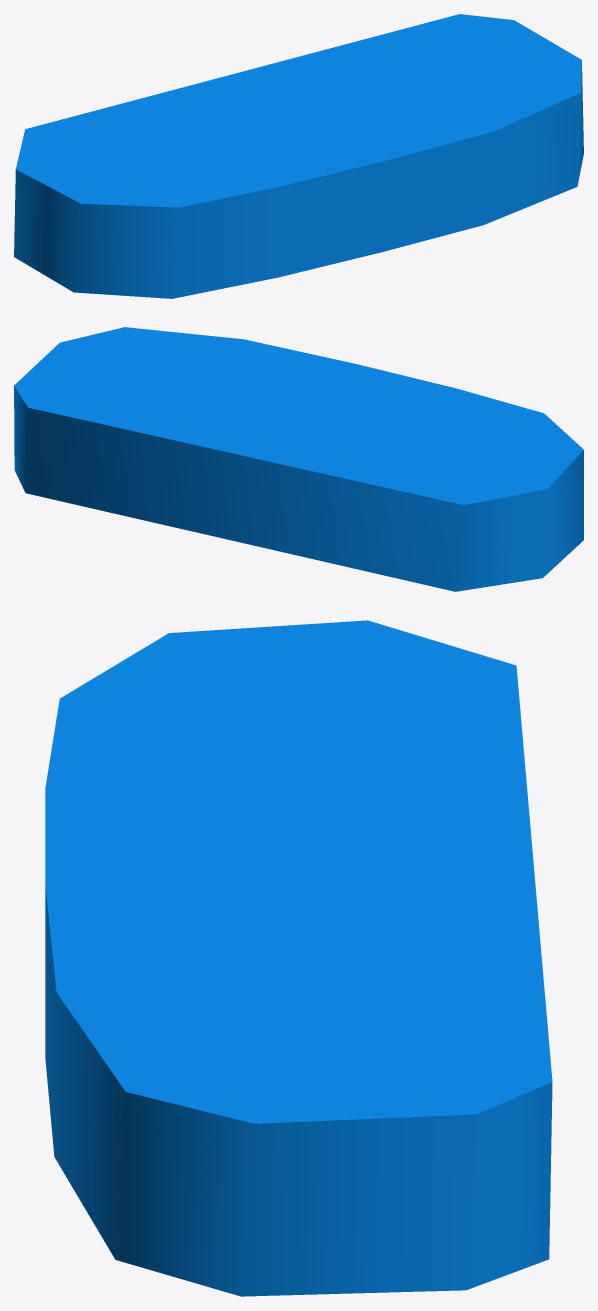
File: Minus.fbx
3 views of the same model, one above another, from view 1: azimuth 30°, elevation 25°; view 2: azimuth 150°, elevation 25°; view 3: azimuth 270°, elevation 25° (orthographic). The views are drawn at different scales.
Visible parts, largest first — view 1: Minus; view 2: Minus; view 3: Minus.
Part boxes in pixels (x1,y1,x2,y2): Minus: (14,14,583,298); Minus: (14,327,583,591); Minus: (45,620,552,1296).
Size of the model in its own units: 0.2035 by 0.0328 by 0.0866.
